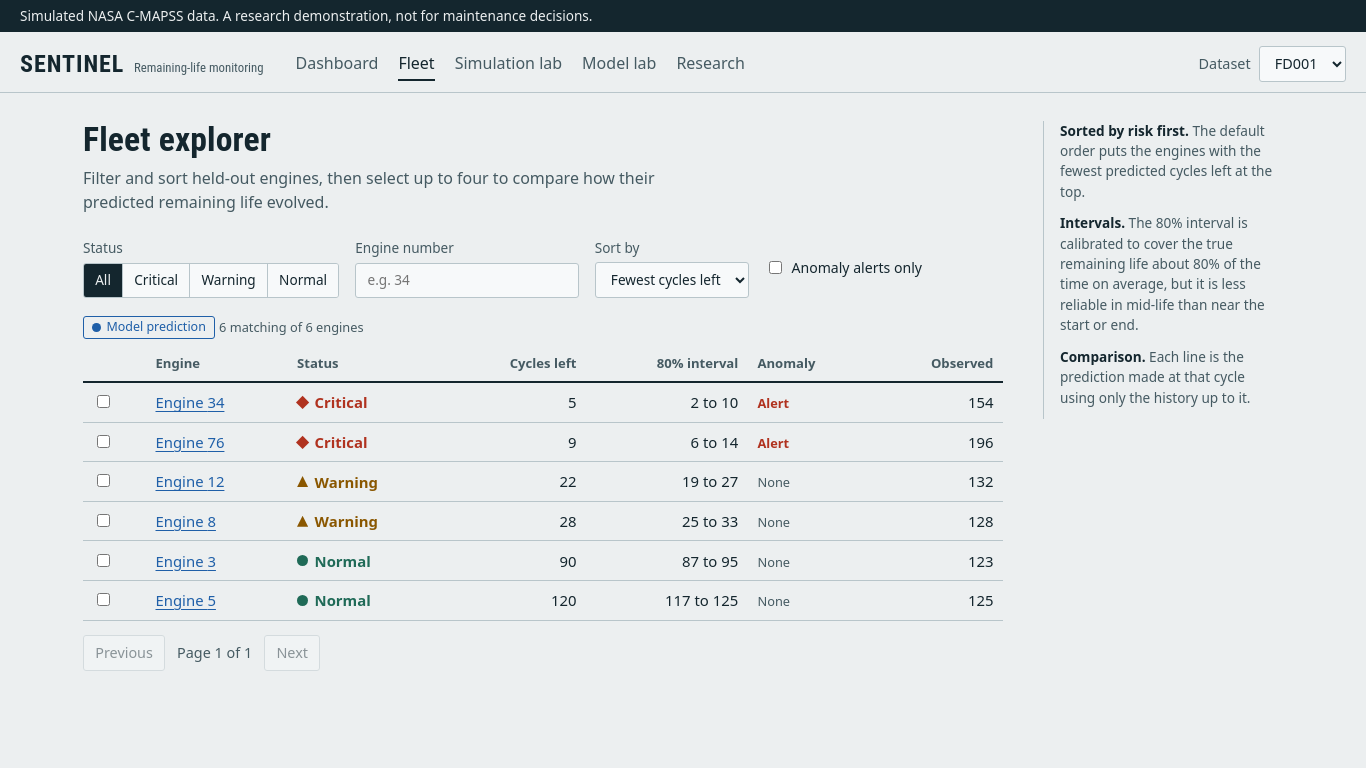
Test: fleet explorer and engine selection › filters by status through the API, handles empty results, and opens an engine
This screenshot has width=1366, height=768.
expect the link "Engine 34" is shown: met, box [156,392,224,412]
Step 1. Click the button "Warning" → (229, 280), box [190,264,268,297]
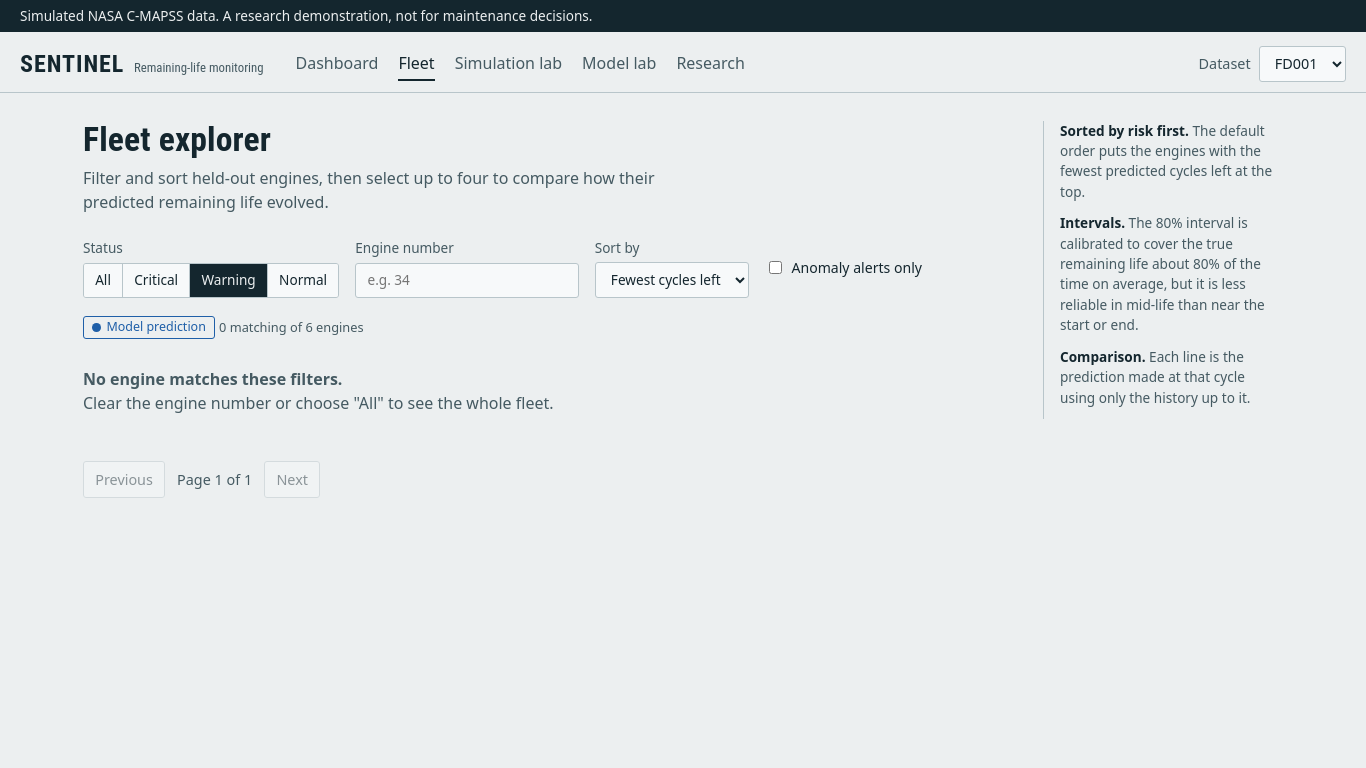
expect the text "No engine matches these filters." is shown: met, box [83,368,342,390]
Step 2. Click the button "All" → (104, 280), box [84,264,123,297]
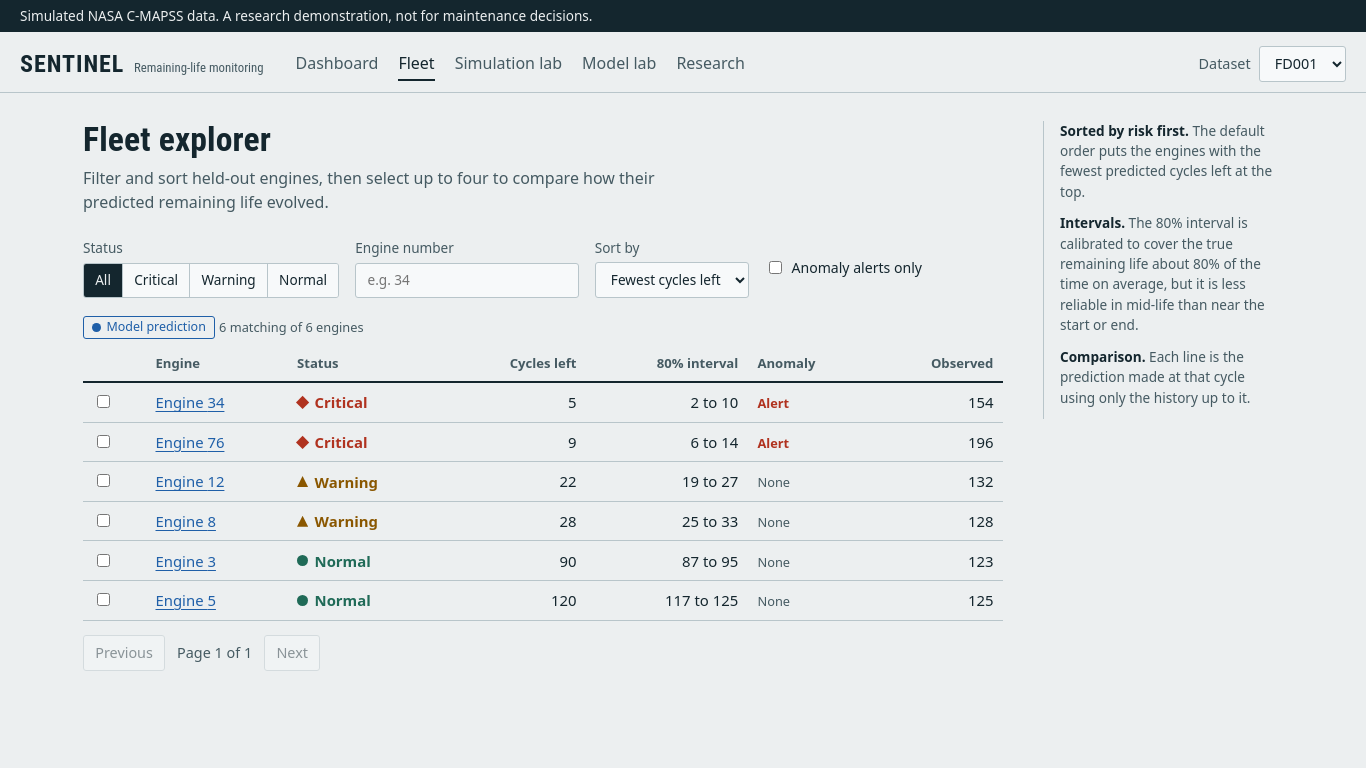
Step 3. Click the link "Engine 34" → (181, 402), box [156,392,224,412]
(page scrolled)
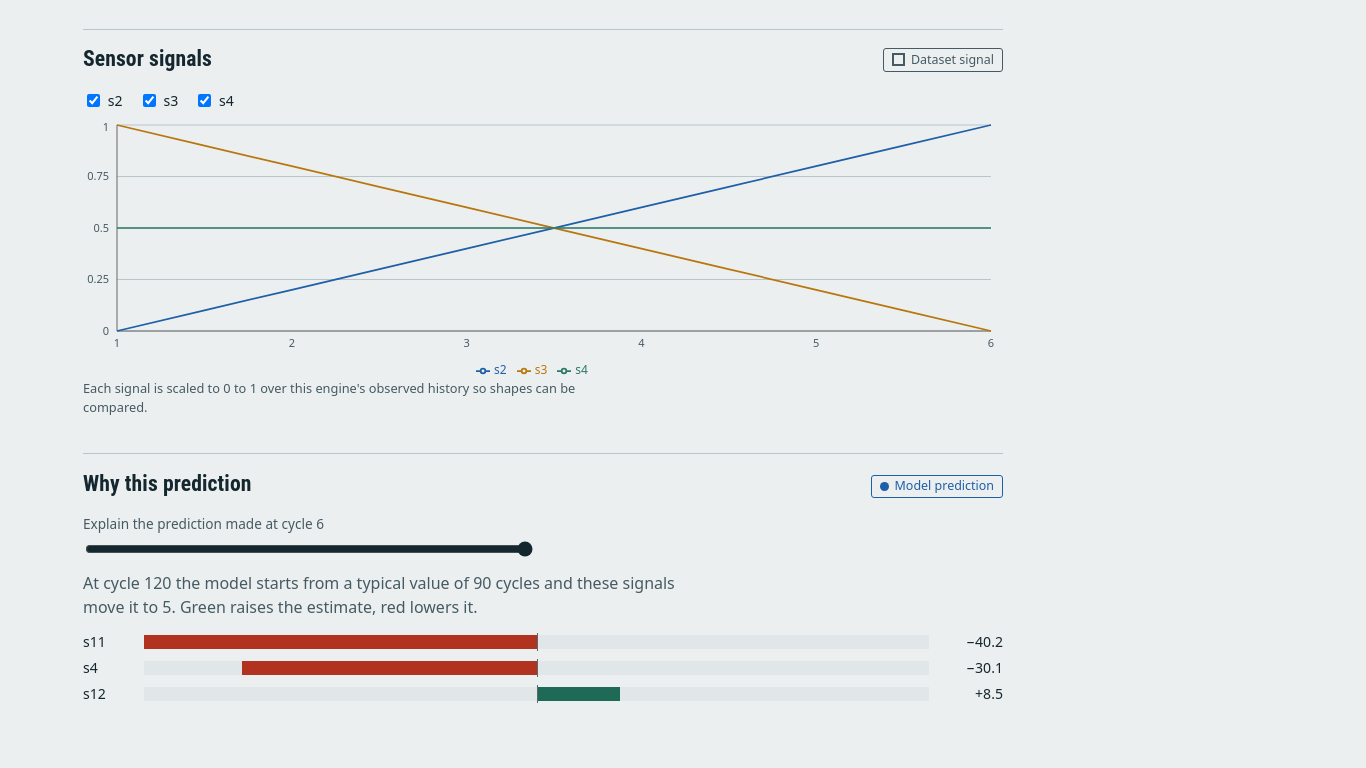
expect the text "At cycle 120 the model starts from" is shown: met, box [83,571,705,619]
